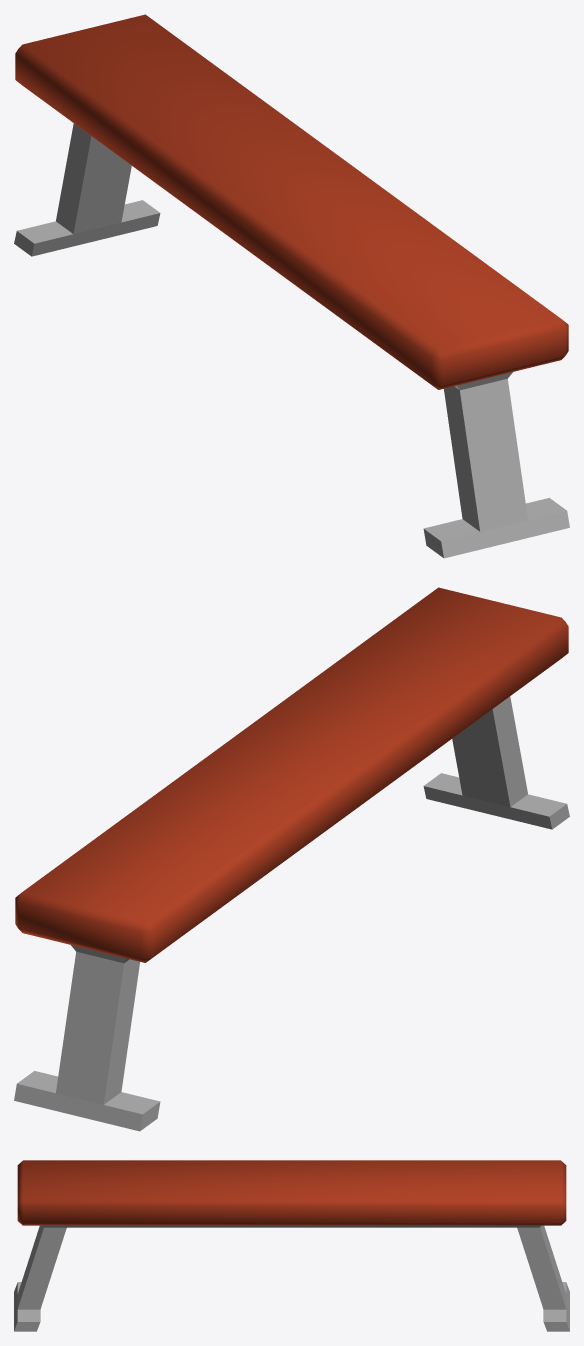
Rendered from bench_1.glb.
The picture shows the model from 3 angles, top to bottom: view 1: azimuth 30°, elevation 25°; view 2: azimuth 150°, elevation 25°; view 3: azimuth 270°, elevation 25°; orthographic projection. The views are drawn at different scales.
Visible parts, largest first — view 1: Bench_A; view 2: Bench_A; view 3: Bench_A.
Boxes of the visible parts, x1,y1,x2,y2 form: Bench_A: (14, 14, 569, 558); Bench_A: (14, 587, 569, 1131); Bench_A: (14, 1160, 569, 1331).
Size of the model in its own units: 0.3524 by 0.4999 by 1.91.
Materials: 1 (1 with a texture image).
